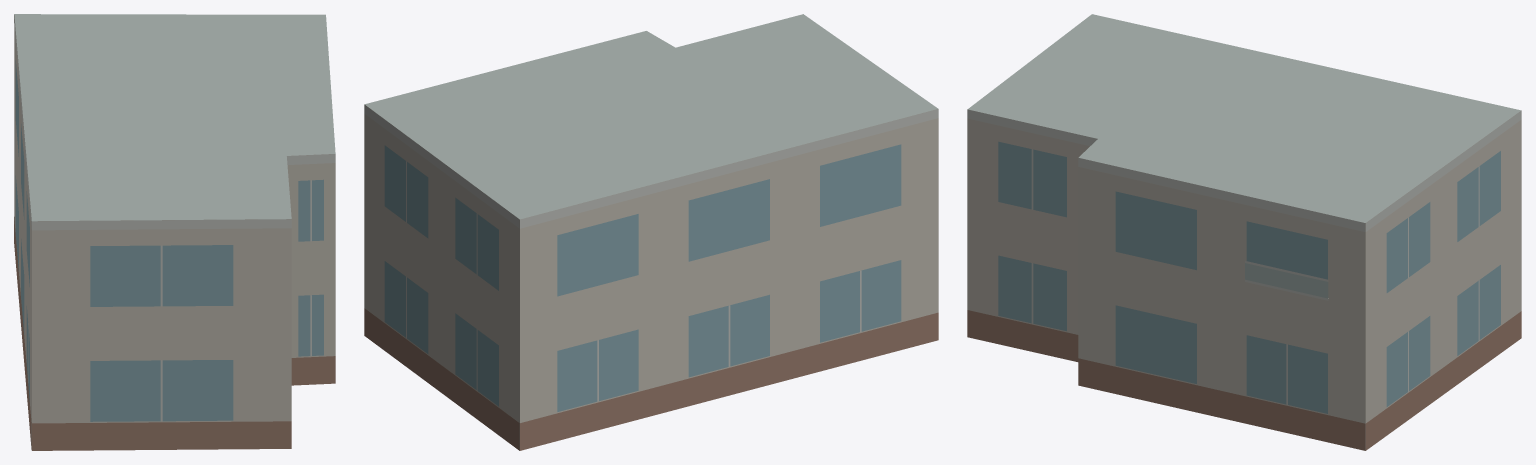
File: survey-upis-32657520.glb
3 renders of one model, left to right at view 1: azimuth 30°, elevation 25°; view 2: azimuth 150°, elevation 25°; view 3: azimuth 270°, elevation 25°, orthographic.
Visible parts, largest first — view 1: survey-upis-32657520.tmp; view 2: survey-upis-32657520.tmp; view 3: survey-upis-32657520.tmp.
Part boxes in pixels (box(x1,y1,x2,y2)): survey-upis-32657520.tmp: box(14, 14, 335, 450); survey-upis-32657520.tmp: box(364, 14, 938, 450); survey-upis-32657520.tmp: box(967, 14, 1521, 450).
Bounding box in the file's own units: 12.02 × 6.1 × 13.46.
